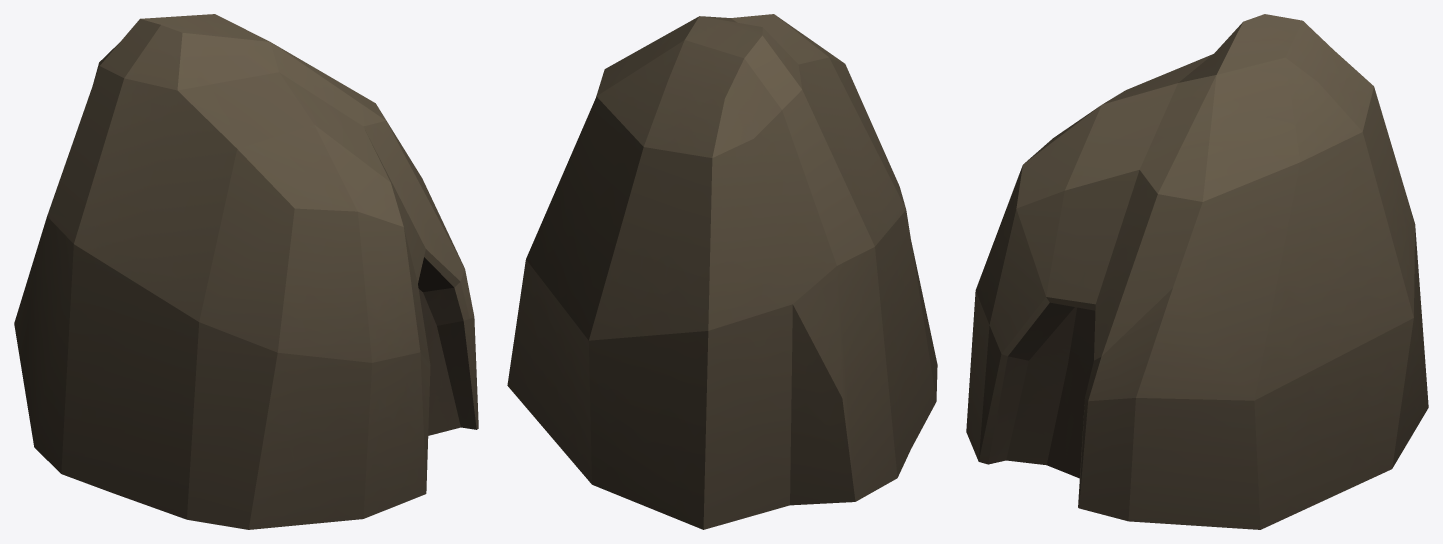
File: Rock_Cave_Entry_B.fbx
3 renders of one model, left to right at view 1: azimuth 30°, elevation 25°; view 2: azimuth 150°, elevation 25°; view 3: azimuth 270°, elevation 25°, orthographic. The views are drawn at different scales.
Visible parts, largest first — view 1: Rock_Cave_Entry_B; view 2: Rock_Cave_Entry_B; view 3: Rock_Cave_Entry_B.
Boxes of the visible parts, x1,y1,x2,y2 form: Rock_Cave_Entry_B: (14,14,478,529); Rock_Cave_Entry_B: (507,14,937,529); Rock_Cave_Entry_B: (966,14,1428,529).
Size of the model in its own units: 432 by 467 by 481.
